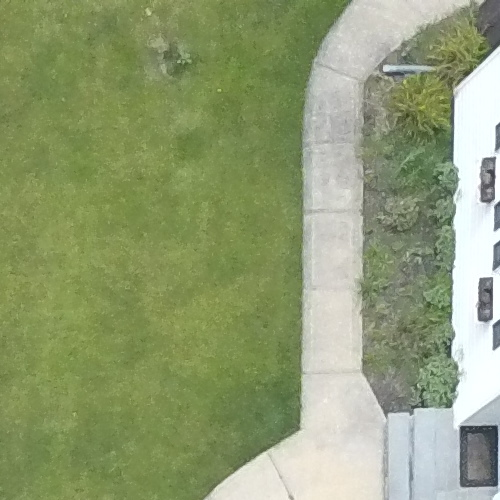gutter: (374, 49, 456, 83)
